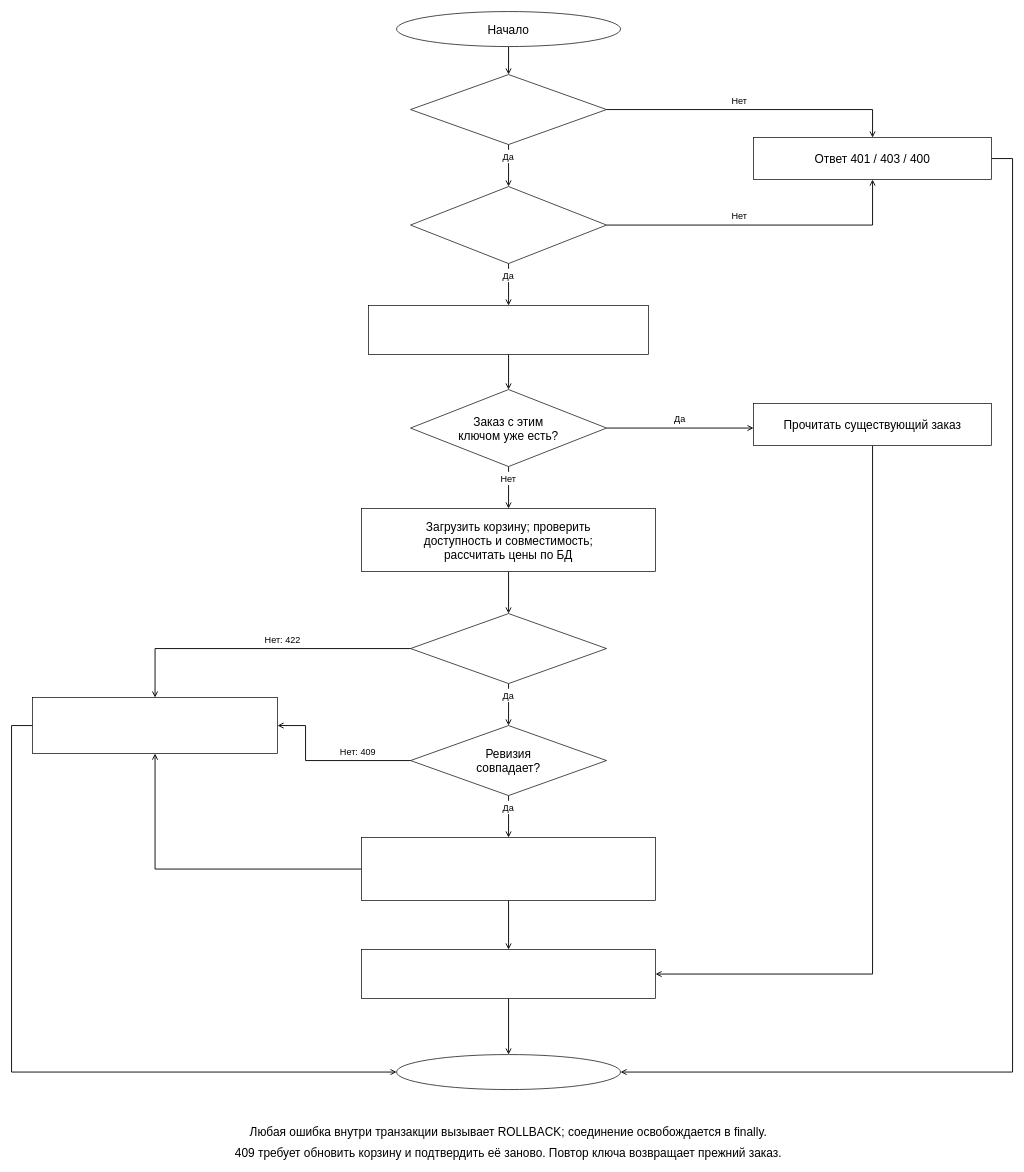
The diagram is 1024 pixels wide and 1172 high, and some of its shapes have lost their labels. The shapes that lost their labels are listed below. From the top down, each one's centre as x and y in pixels, then its label:
At pixel 508 109: "Сессия и CSRF допустимы?".
At pixel 508 225: "Контакты, ключ заказа и ревизия корректны?".
At pixel 508 330: "Начать транзакцию; заблокировать пользователя".
At pixel 508 648: "Корзина непуста и доступна?".
At pixel 155 725: "ROLLBACK; освободить соединение; вернуть ошибку".
At pixel 257 859: "Сбой записи".
At pixel 508 869: "Создать заказ, снимки позиций и первое событие истории; очистить корзину".
At pixel 508 974: "COMMIT; освободить соединение; вернуть заказ".
At pixel 508 1072: "Конец".
